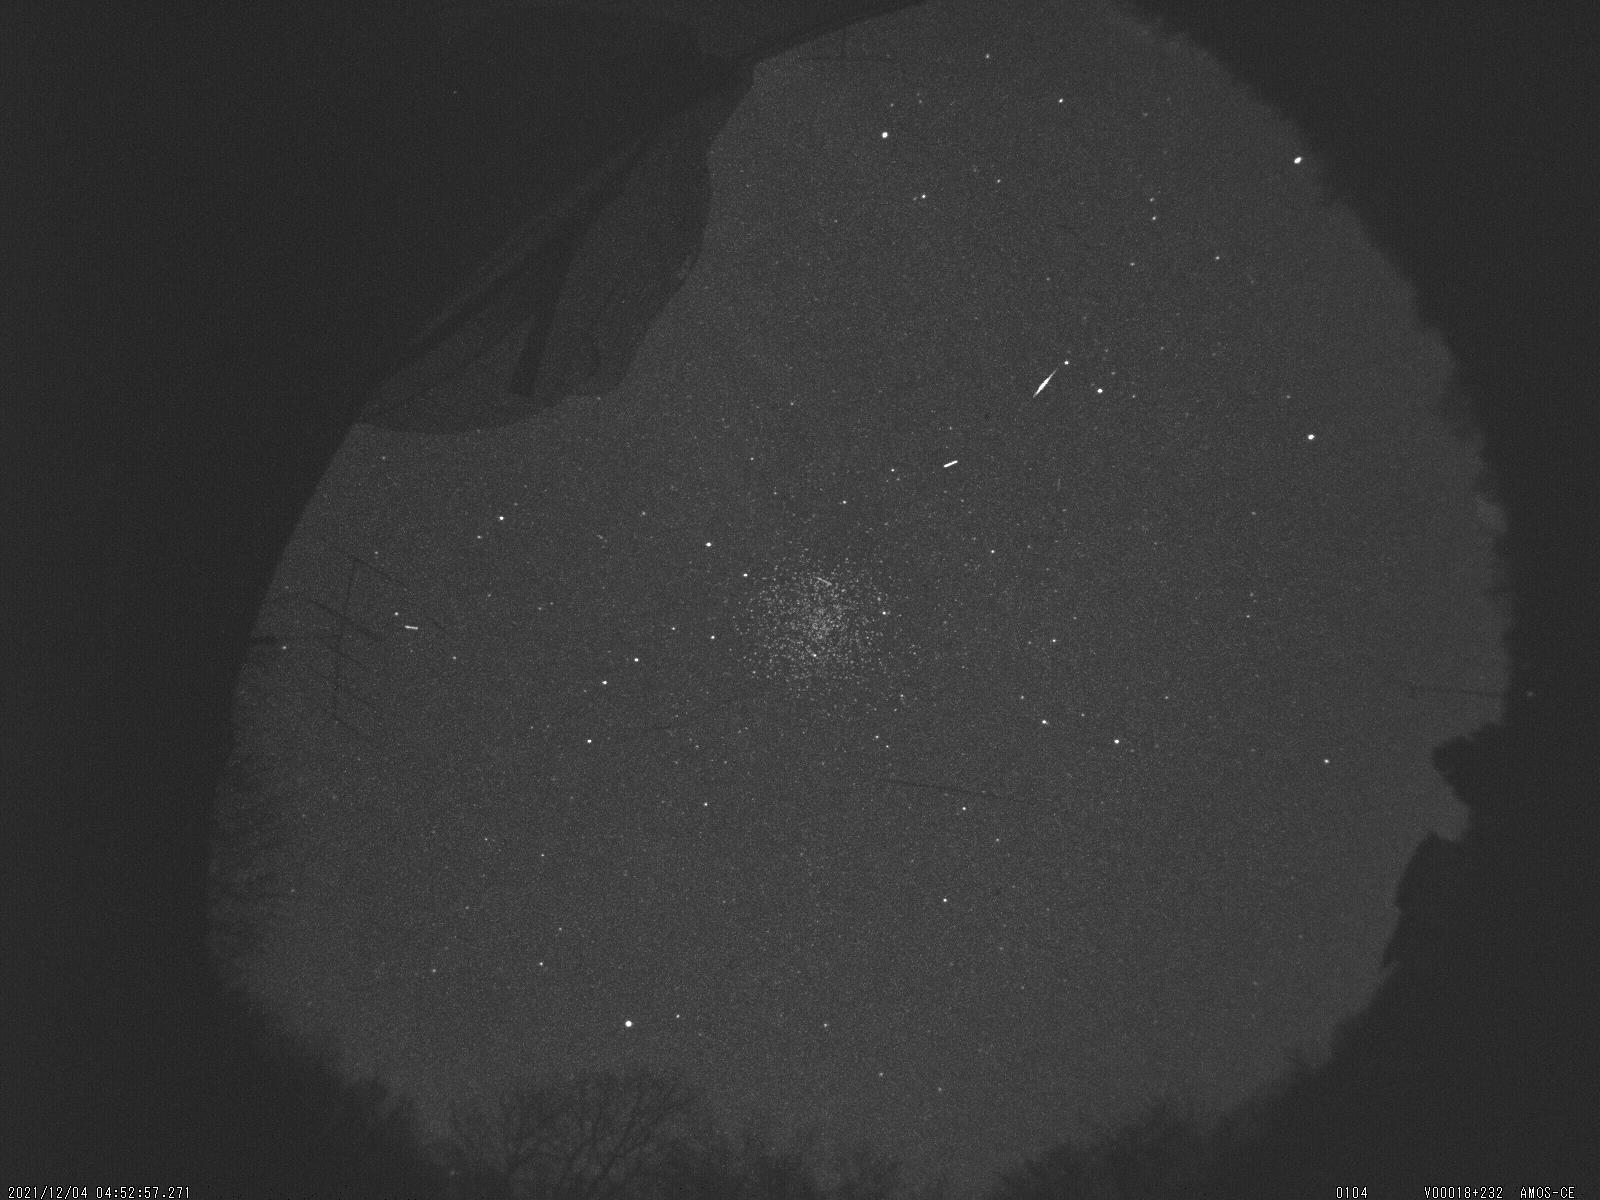Meteor: (1028, 364, 1063, 407)
